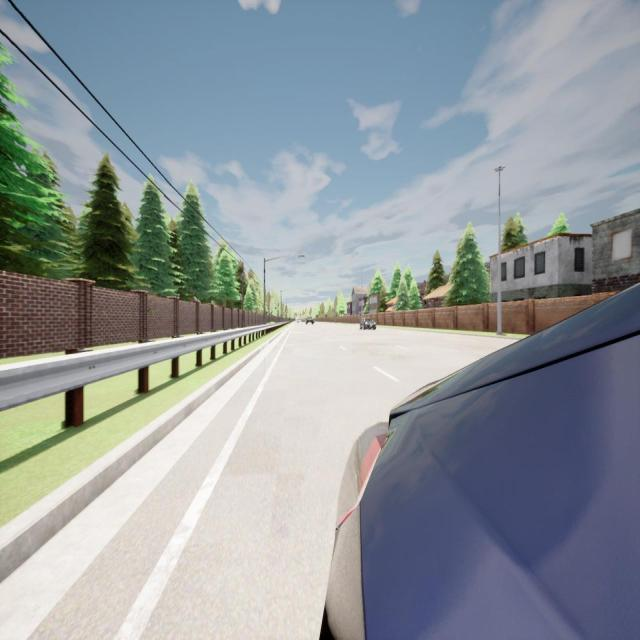Vehicle: (326, 284, 640, 637), (359, 318, 376, 330), (306, 317, 315, 325)
